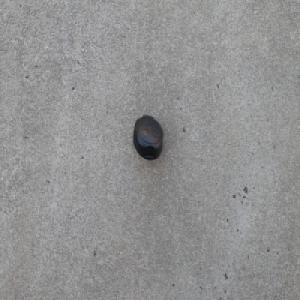FuelCap: (132, 114, 163, 161)
